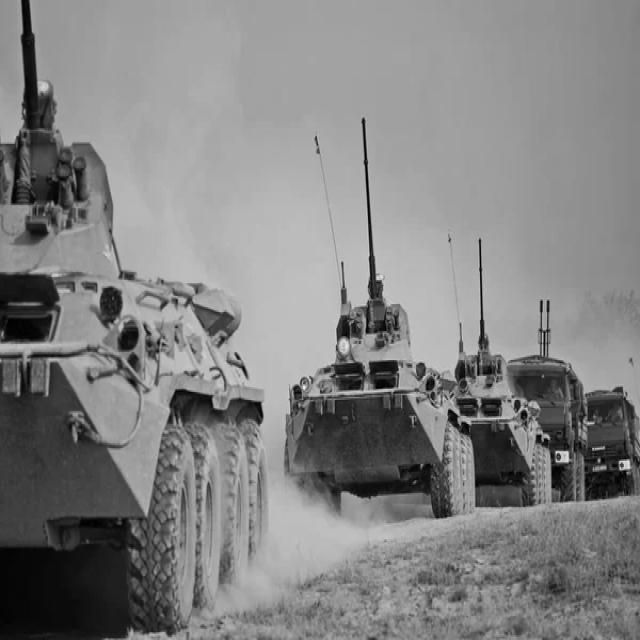Tank: (0, 24, 291, 621), (281, 171, 481, 528), (442, 256, 556, 524)
Truck: (503, 337, 592, 503), (587, 383, 640, 500)
